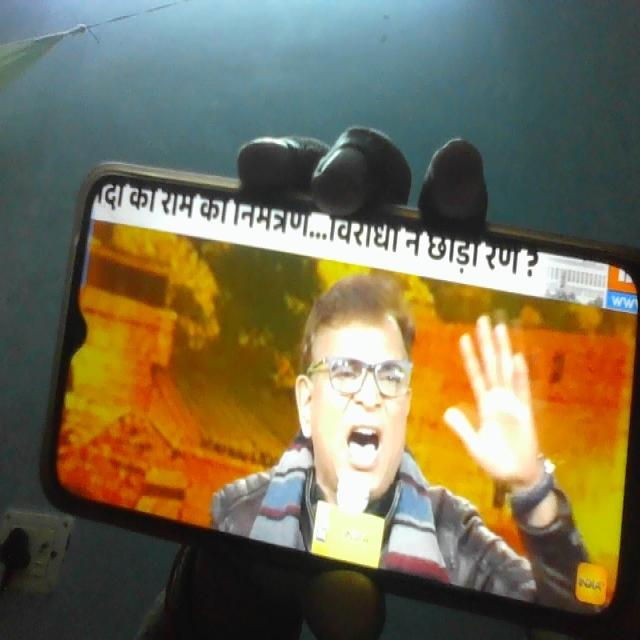fake: (297, 275, 419, 505)
